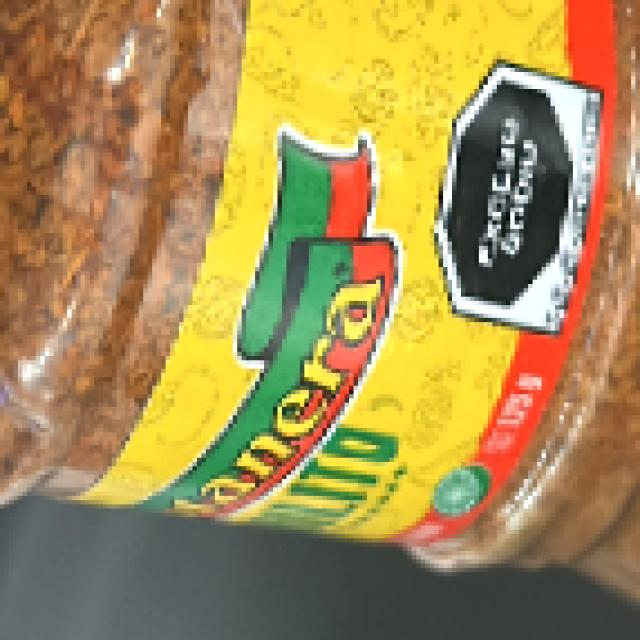botaneraChilito: (4, 8, 640, 568)
